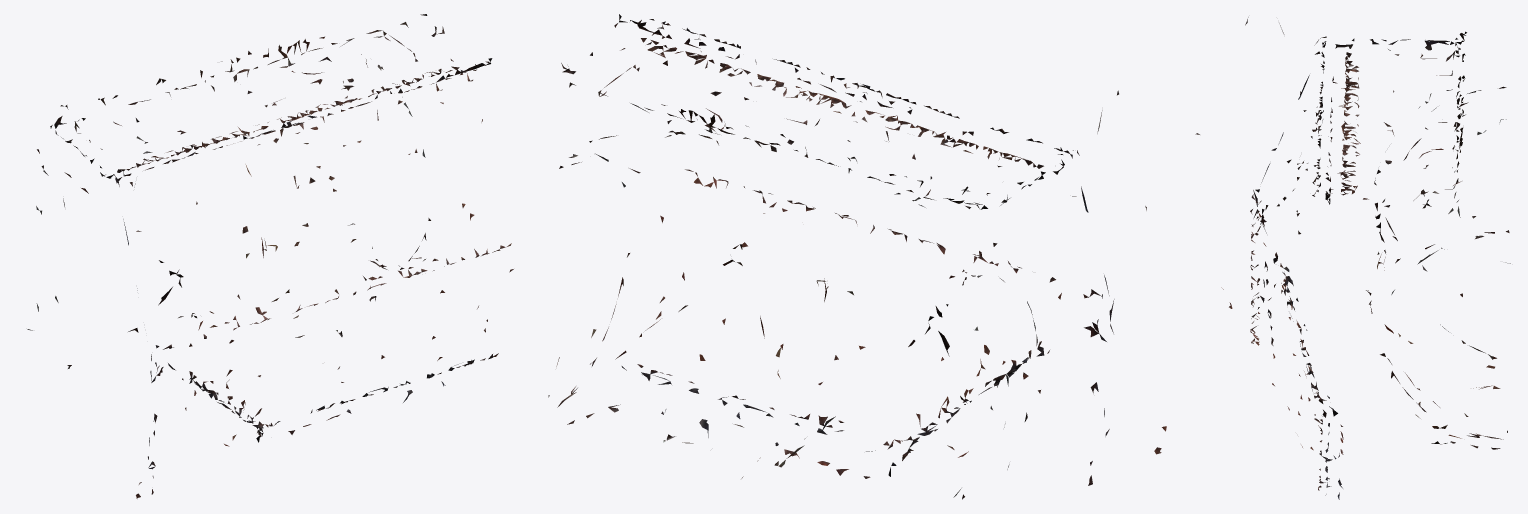
3 renders of one model, left to right at view 1: azimuth 30°, elevation 25°; view 2: azimuth 150°, elevation 25°; view 3: azimuth 270°, elevation 25°, orthographic. The views are drawn at different scales.
Size of the model in its own units: 12.39 by 9.75 by 8.39.
1 material, 1 textured.
